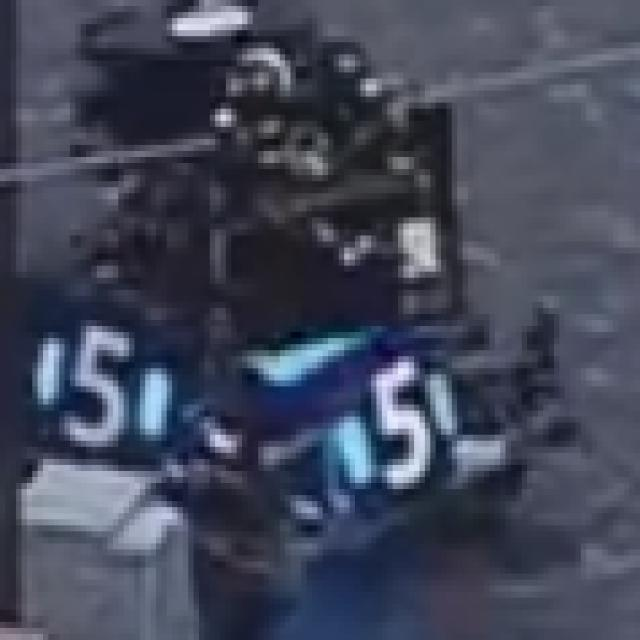B5: (32, 314, 162, 459), (333, 368, 468, 489)
